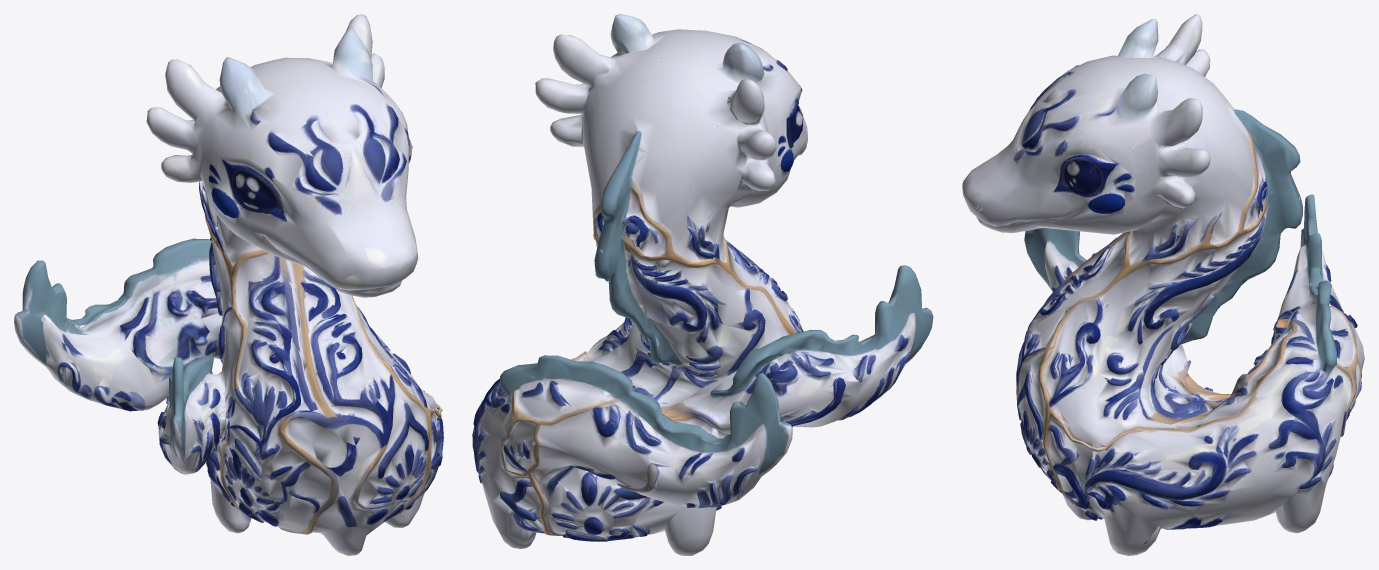
3 renders of one model, left to right at view 1: azimuth 30°, elevation 25°; view 2: azimuth 150°, elevation 25°; view 3: azimuth 270°, elevation 25°, orthographic. The views are drawn at different scales.
Parts seen in each view (by area): view 1: Mesh_0; view 2: Mesh_0; view 3: Mesh_0.
Boxes of the visible parts, <box> form: Mesh_0: <box>14,14,443,555</box>; Mesh_0: <box>472,14,933,555</box>; Mesh_0: <box>962,14,1364,555</box>.
Size of the model in its own units: 1.36 by 1.9 by 1.49.
Materials: 1 (1 with a texture image).
